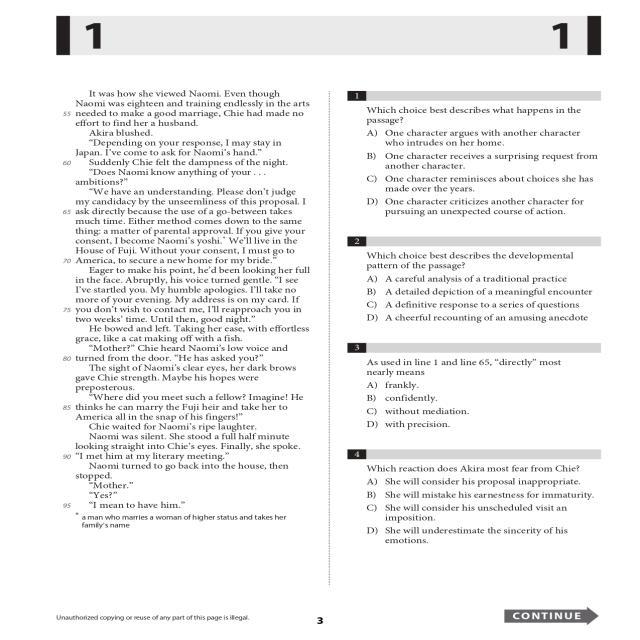Answer_Block: (336, 128, 628, 222), (337, 476, 629, 550), (337, 274, 628, 329), (336, 378, 628, 432)
Instruction: (56, 82, 324, 592)
Question_Answer_Block: (336, 85, 630, 224), (336, 443, 630, 551), (336, 233, 628, 328), (336, 338, 628, 432)
Question_Block: (336, 84, 628, 128), (336, 233, 628, 272), (336, 339, 628, 377), (337, 443, 629, 475)
Question_Paper_Area: (336, 84, 628, 592), (56, 82, 324, 592)
